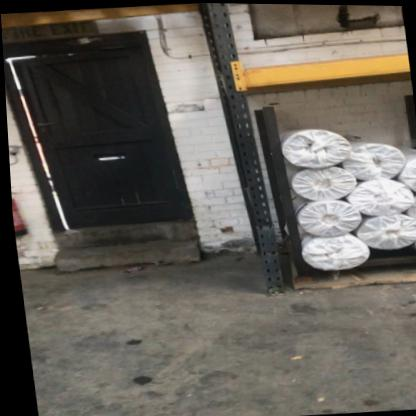vertical_damage: (237, 202, 279, 242)
